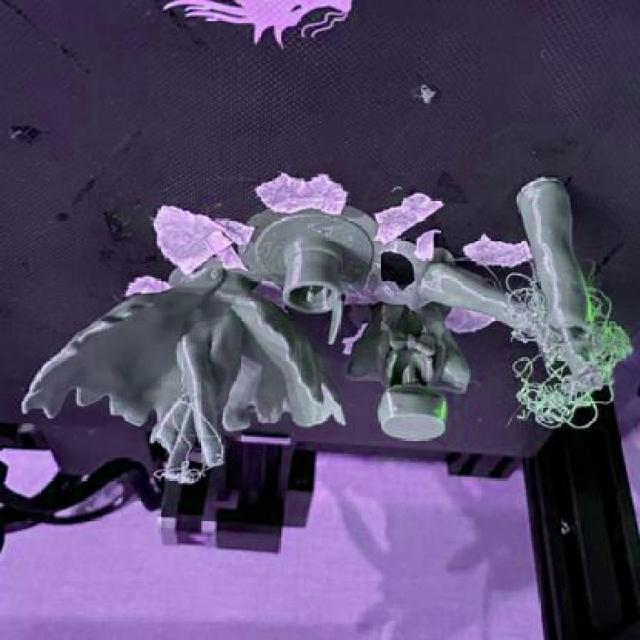spaghetti: (497, 271, 634, 434), (148, 398, 230, 491)
